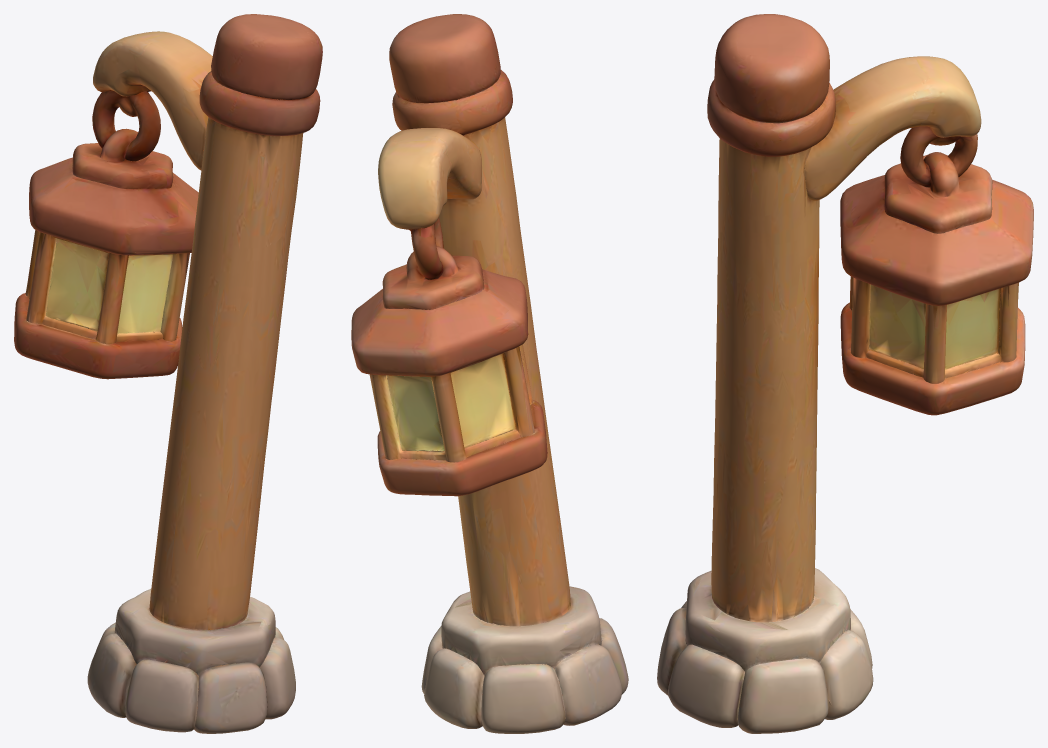
3 views of the same model, side by side, from view 1: azimuth 30°, elevation 25°; view 2: azimuth 150°, elevation 25°; view 3: azimuth 270°, elevation 25° (orthographic). The views are drawn at different scales.
Parts seen in each view (by area): view 1: P01-clay-street-lamp; view 2: P01-clay-street-lamp; view 3: P01-clay-street-lamp.
Part boxes in pixels (bbox=[...]): P01-clay-street-lamp: bbox=[14, 14, 322, 733]; P01-clay-street-lamp: bbox=[351, 14, 628, 733]; P01-clay-street-lamp: bbox=[657, 14, 1033, 733].
Bounding box in the file's own units: 0.6713 × 1.9 × 0.9223.
Materials: 1 (1 with a texture image).
